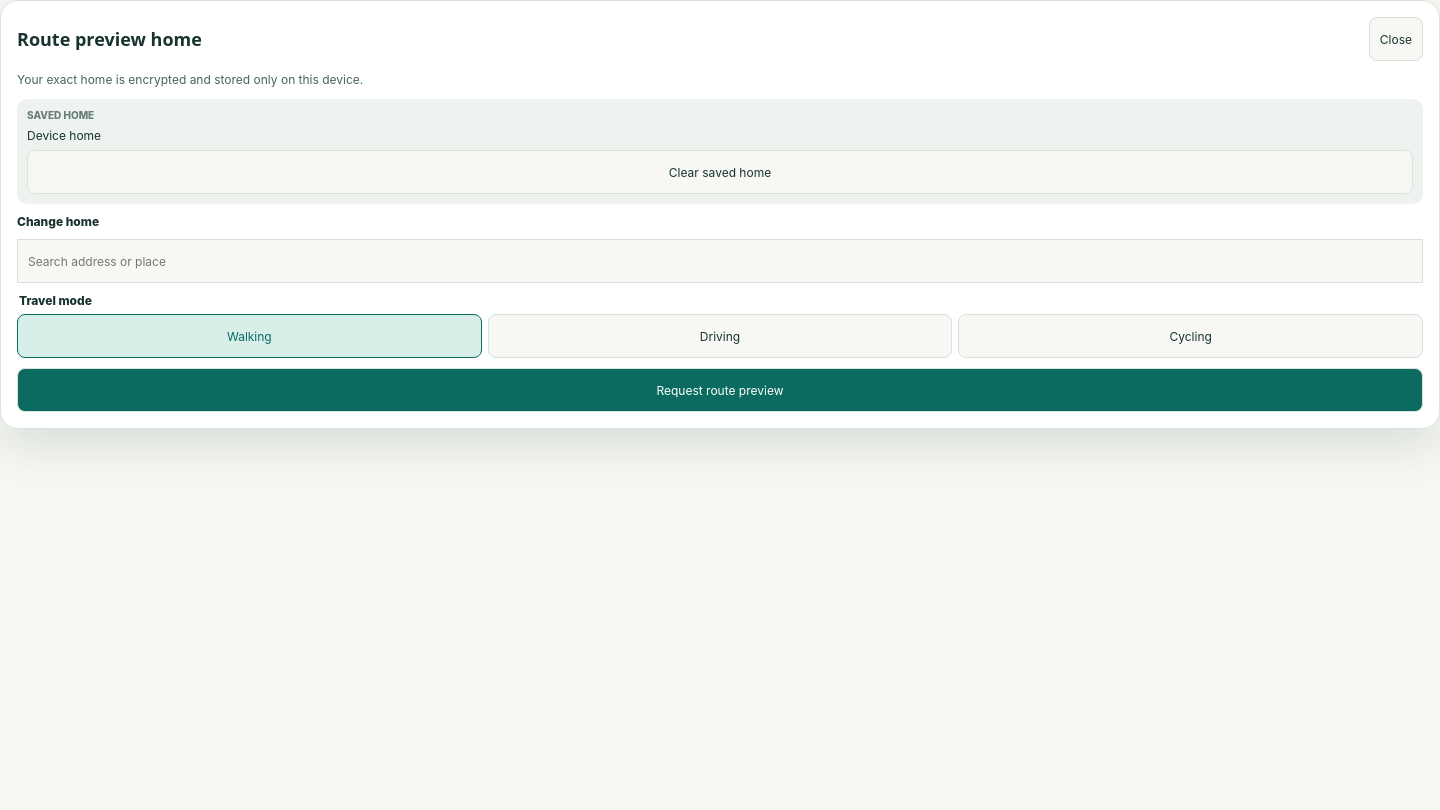
HomeRoutePanel › uses the shared GPS fix and selected supported mode for route previews
Click the button "Cycling". click: (1191, 336)
box: [958,314,1423,358]
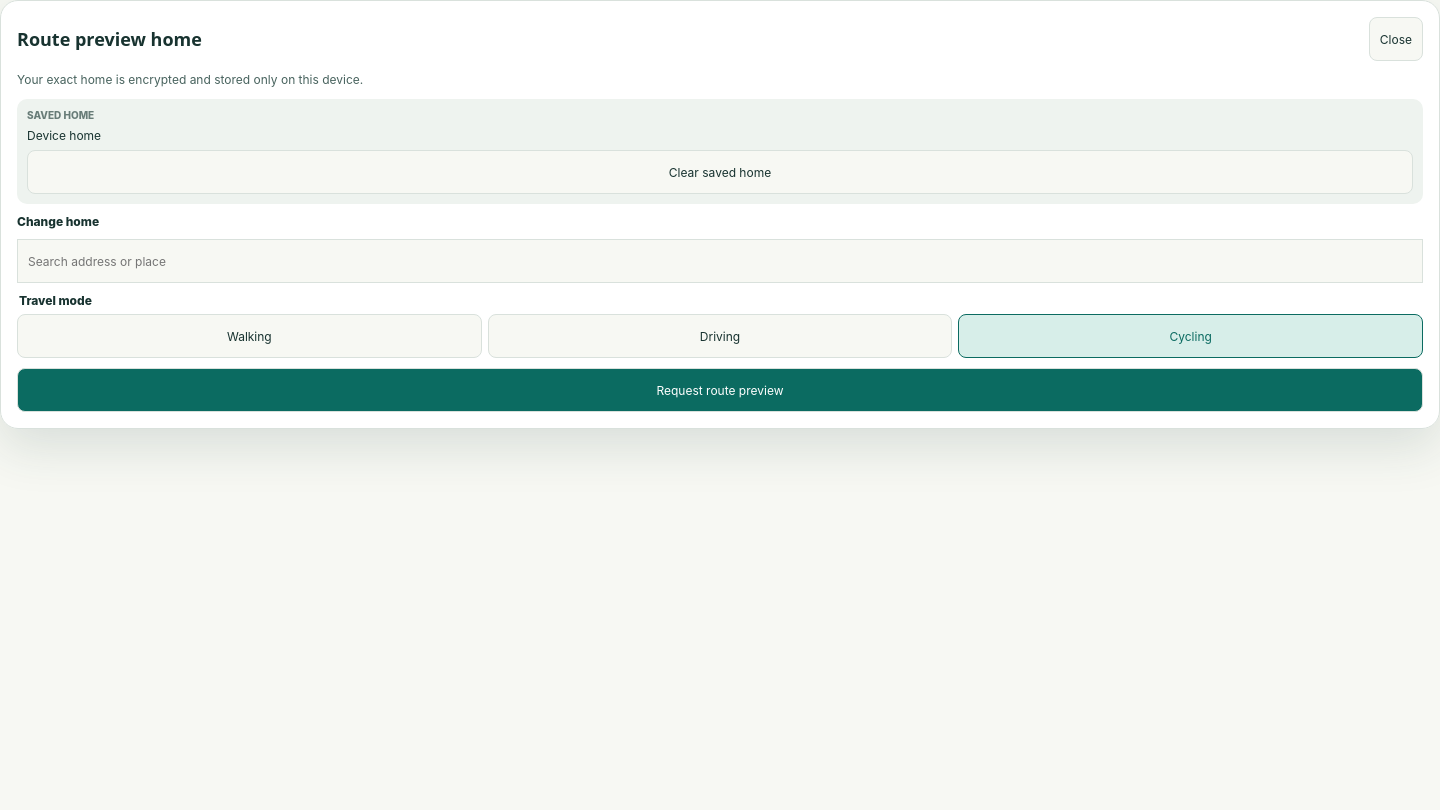
Click the button "Request route preview". click: (720, 390)
box: [17,368,1423,412]
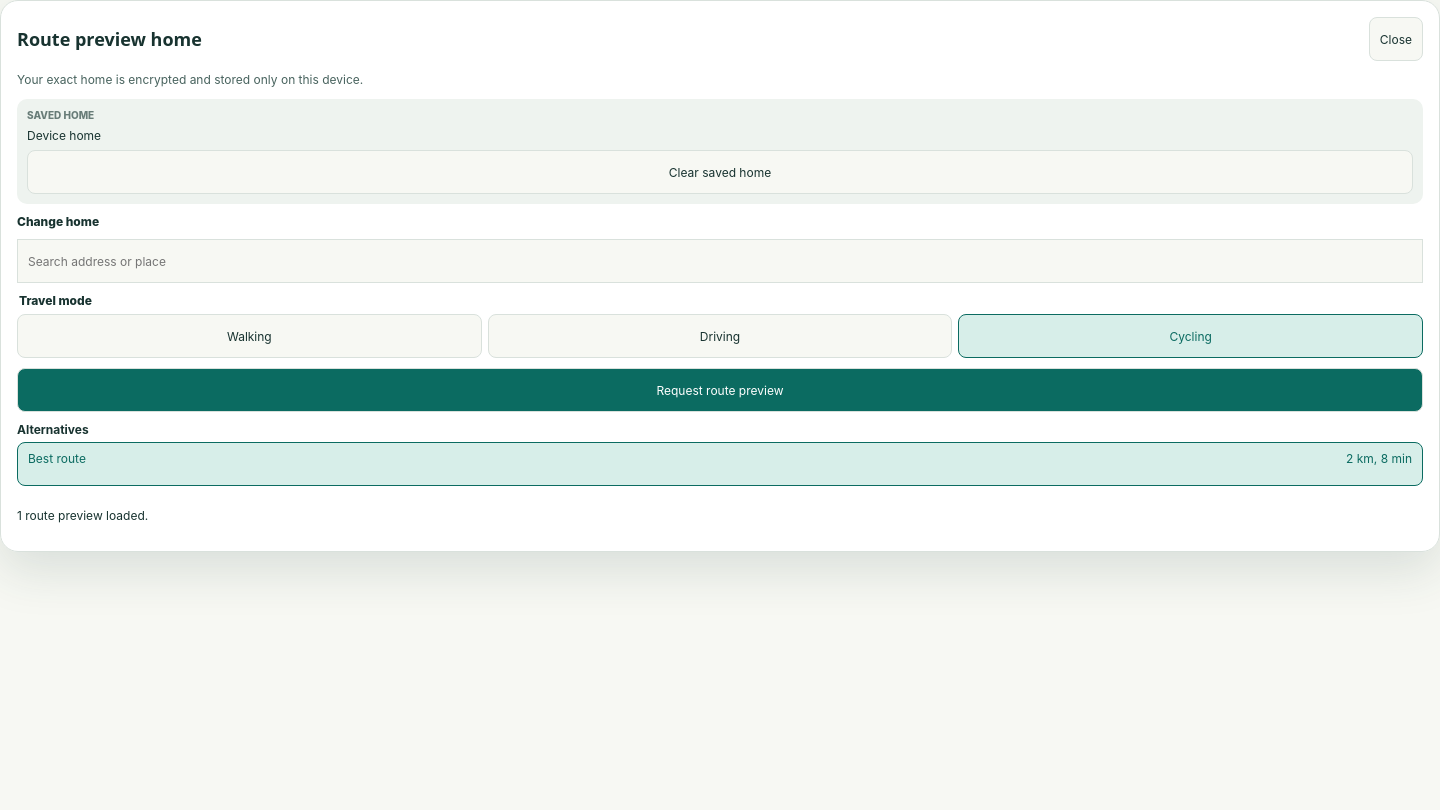
Now the text "2 km, 8 min" is shown, box [1346,451,1412,466]
